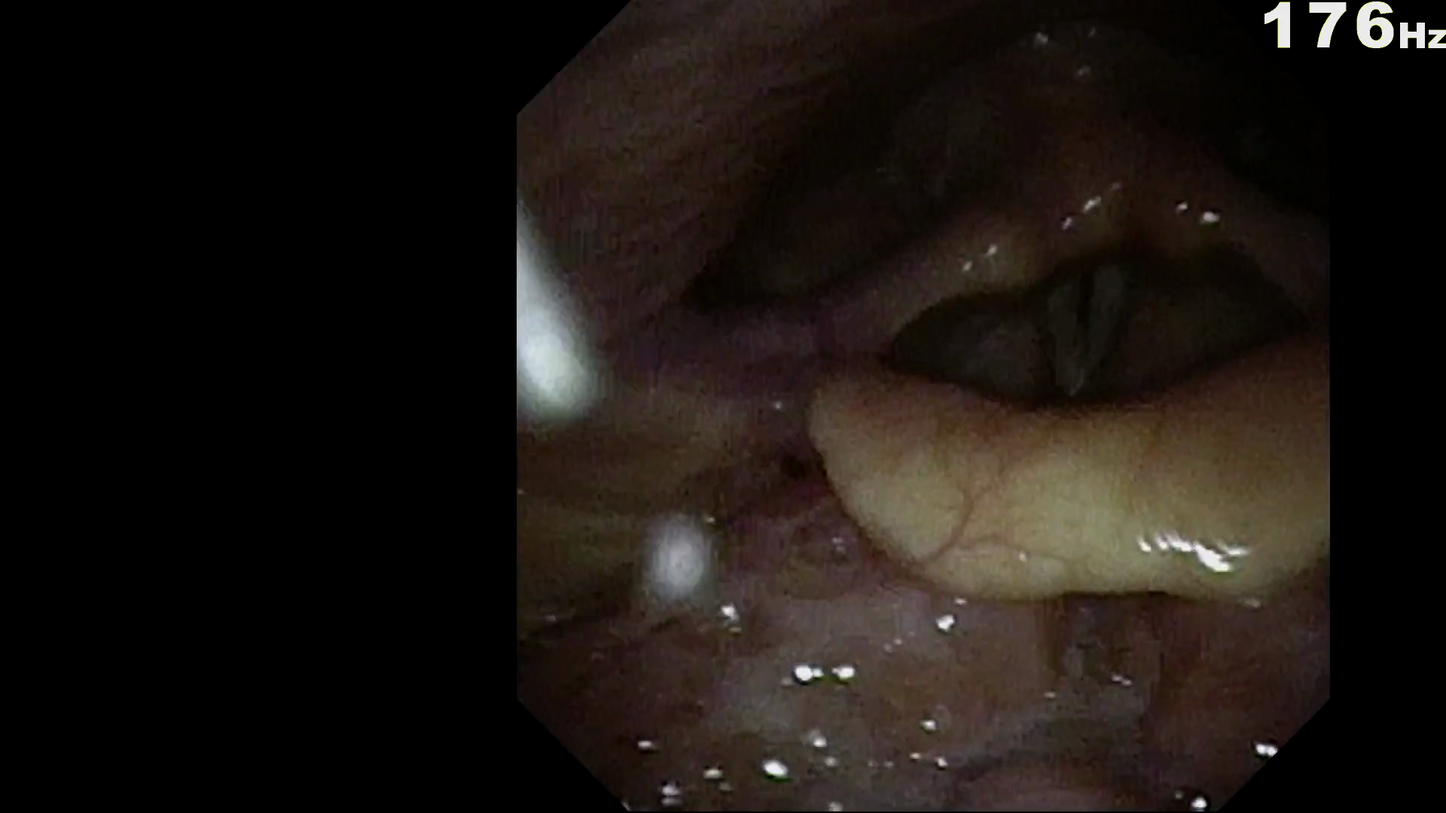epiglottis: (786, 365, 1311, 618)
trachea: (1006, 270, 1152, 424)
